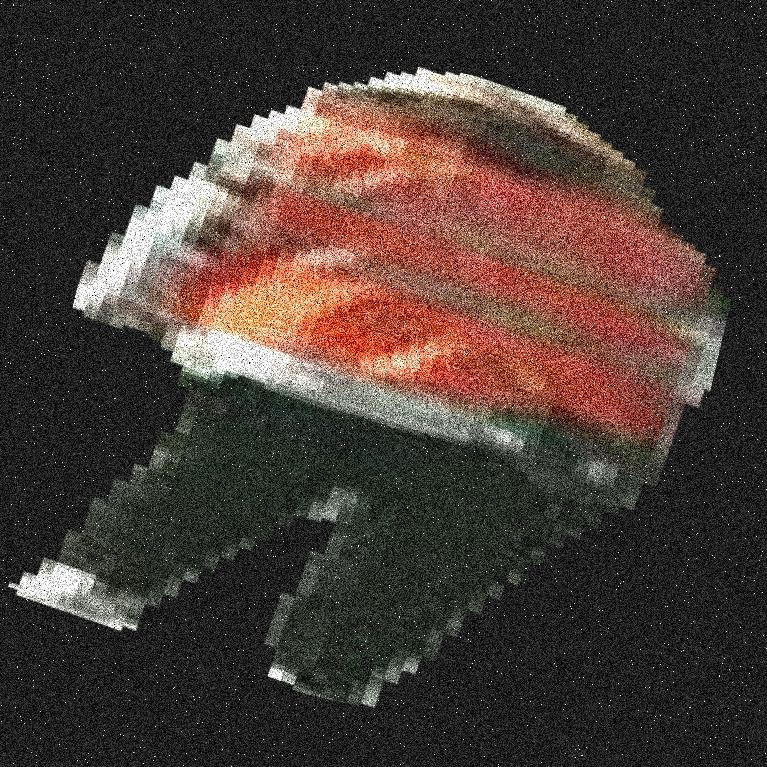Pessoa: (227, 0, 766, 766)
